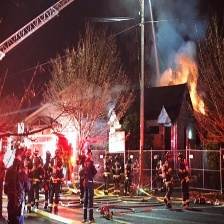fire: (164, 60, 208, 113)
smoke: (143, 1, 208, 61)
